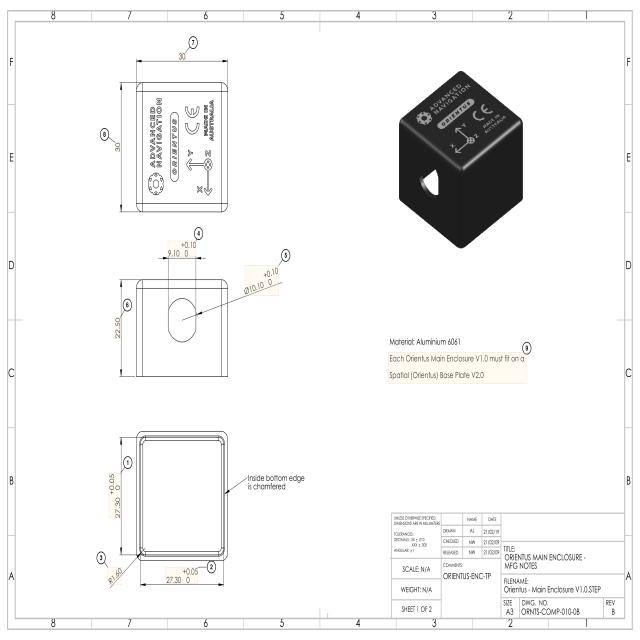dimension: (242, 264, 280, 298), (108, 473, 121, 519), (166, 567, 198, 584), (168, 241, 196, 258), (108, 566, 122, 585), (115, 317, 121, 339), (178, 51, 186, 60), (115, 141, 121, 152)
